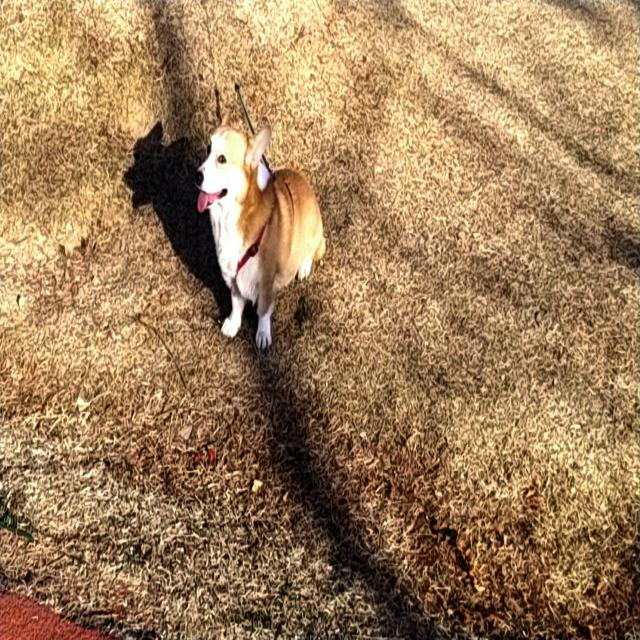Dog: (194, 108, 326, 351)
